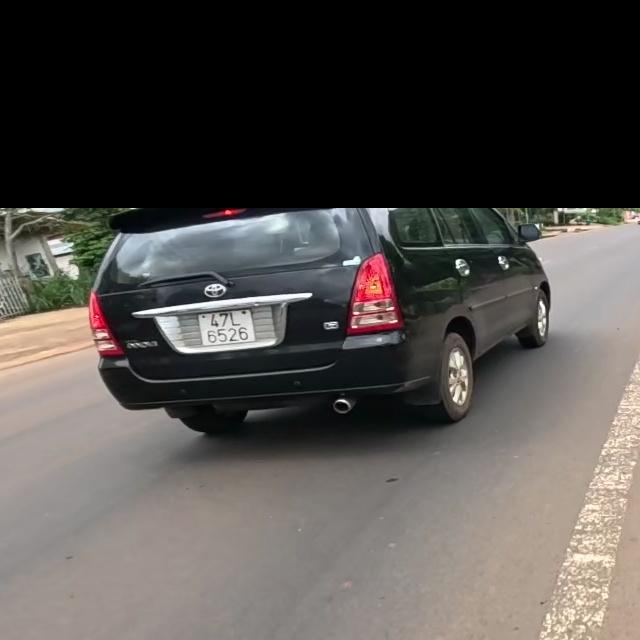license-plate: (197, 307, 256, 346)
